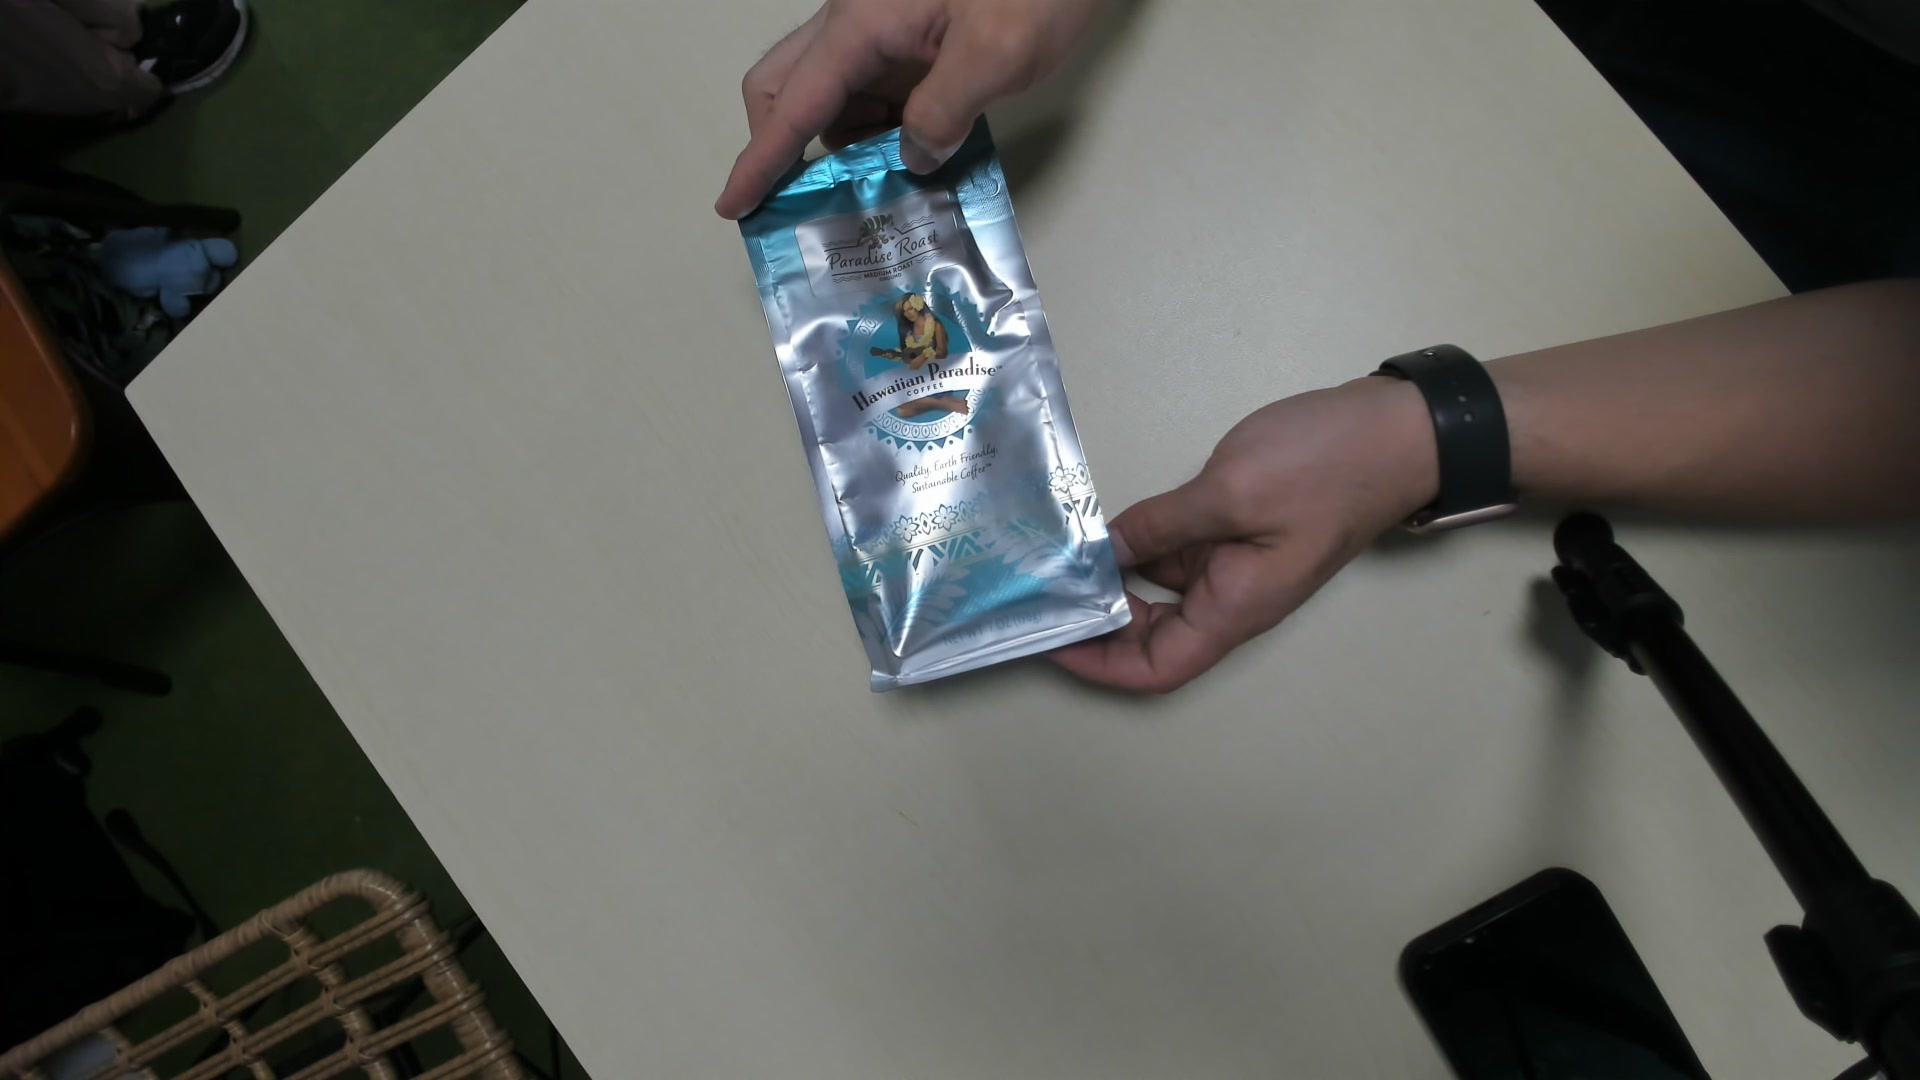Coffee_100-199g_NonHalal_NonHealthy: (742, 117, 1133, 696)
